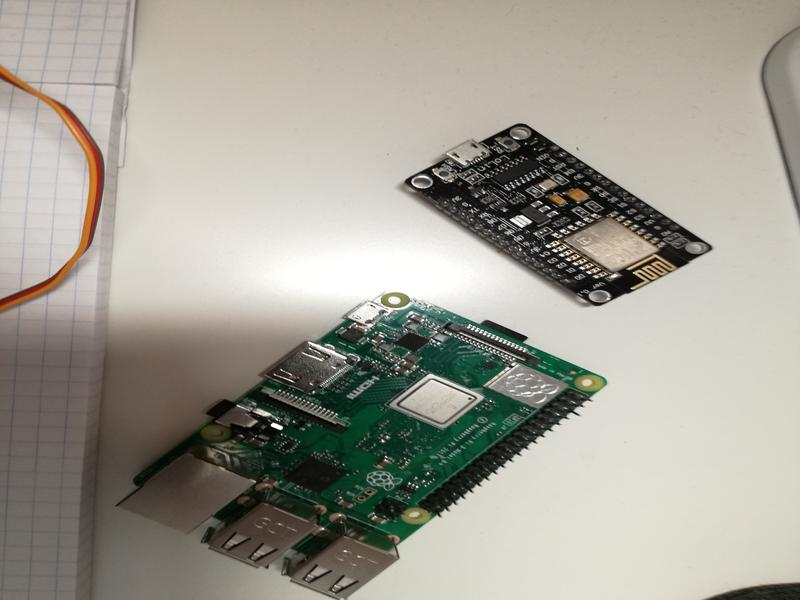ESP8266: (403, 119, 719, 307)
Raspberry_Pi_3: (102, 290, 609, 595)
